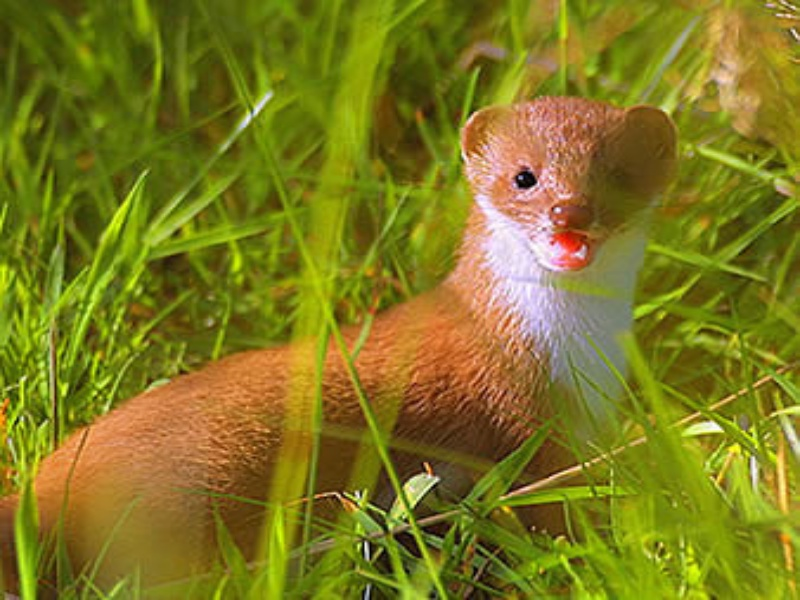minkish: (12, 92, 697, 588)
